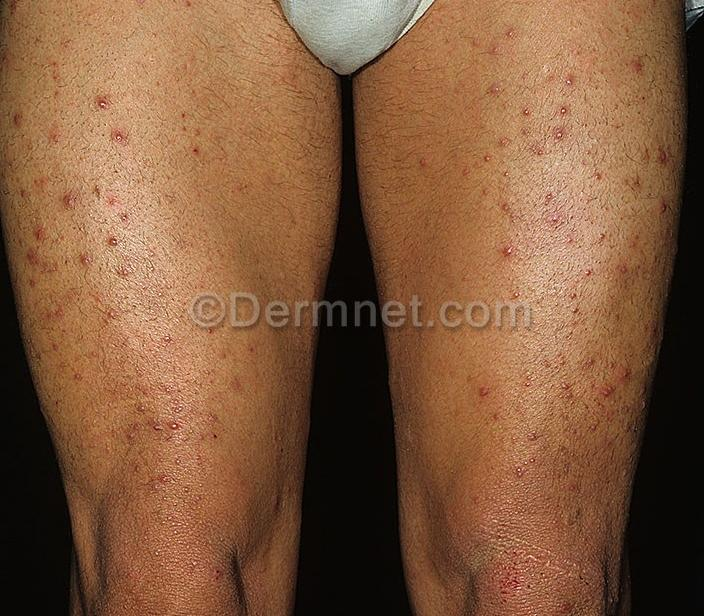edema 1: (450, 52, 678, 494), (0, 79, 193, 504)
